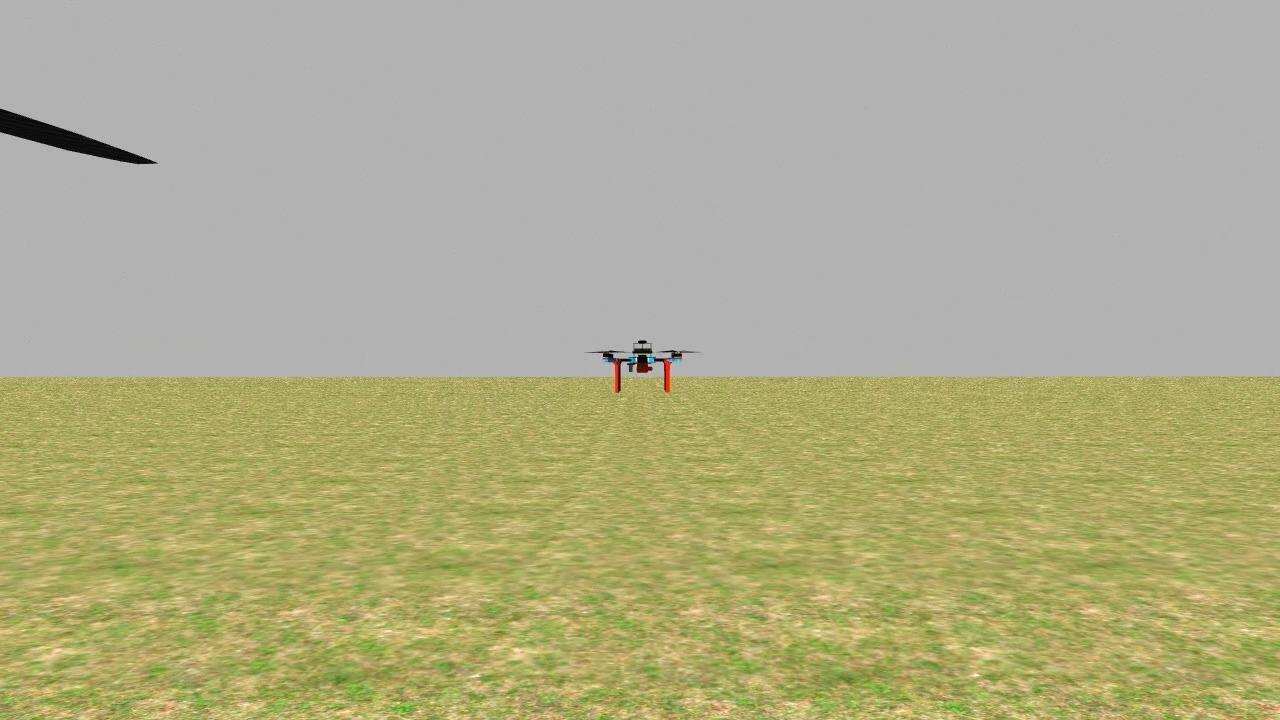UAV: (579, 318, 711, 392)
